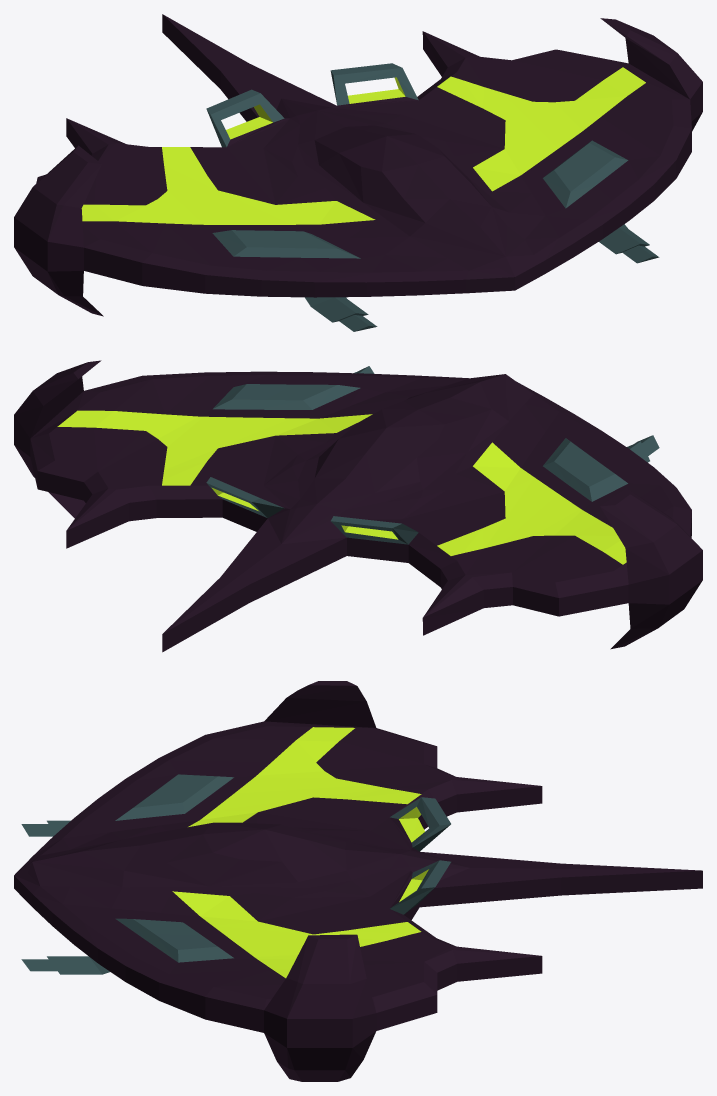
Rendered from wide jet.fbx.
3 views of the same model, one above another, from view 1: azimuth 30°, elevation 25°; view 2: azimuth 150°, elevation 25°; view 3: azimuth 270°, elevation 25° (orthographic). The views are drawn at different scales.
Parts seen in each view (by area): view 1: StingRay mesh; view 2: StingRay mesh; view 3: StingRay mesh.
Part boxes in pixels (box(x1,y1,x2,y2)): StingRay mesh: box(14, 14, 702, 331); StingRay mesh: box(14, 360, 702, 652); StingRay mesh: box(14, 681, 702, 1081).
Bounding box in the file's own units: 4166 × 873 × 3884.
